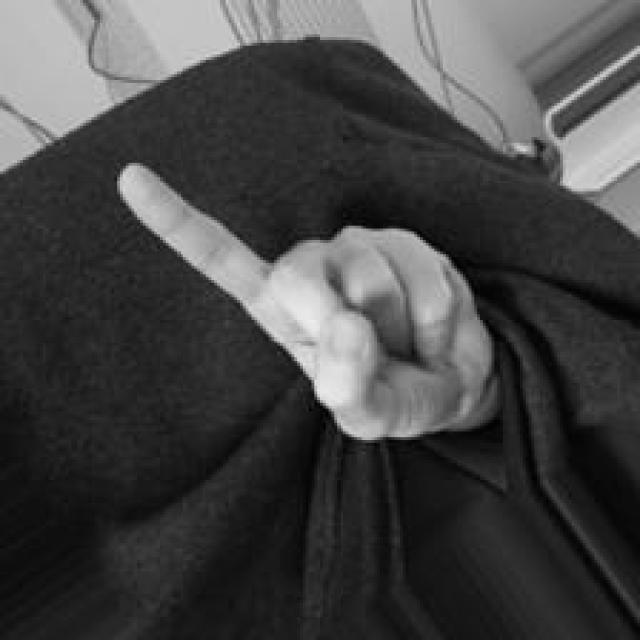I: (110, 154, 503, 448)
